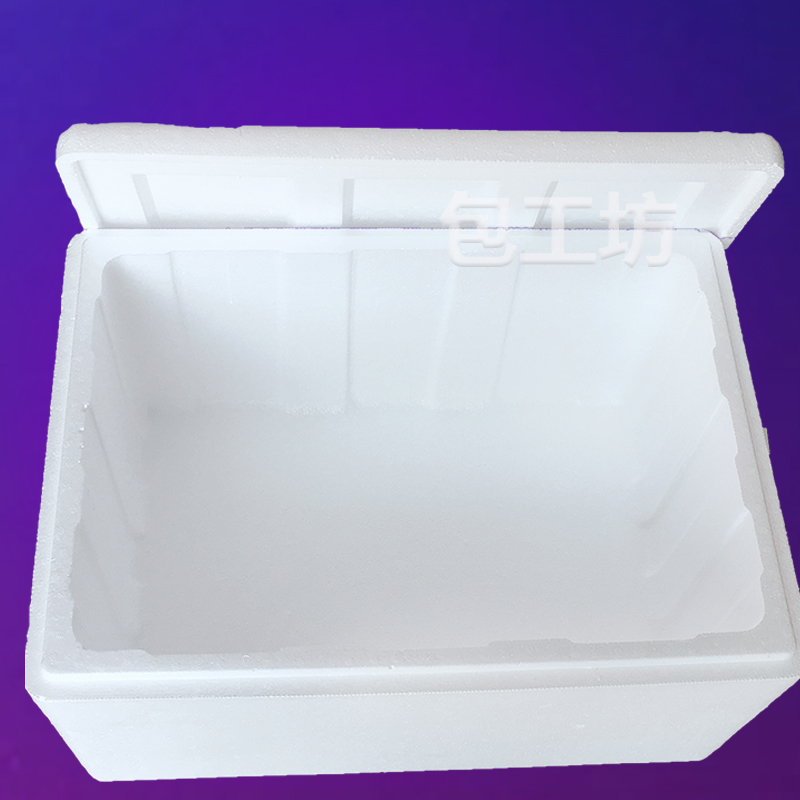Boxes: (25, 124, 800, 780)
